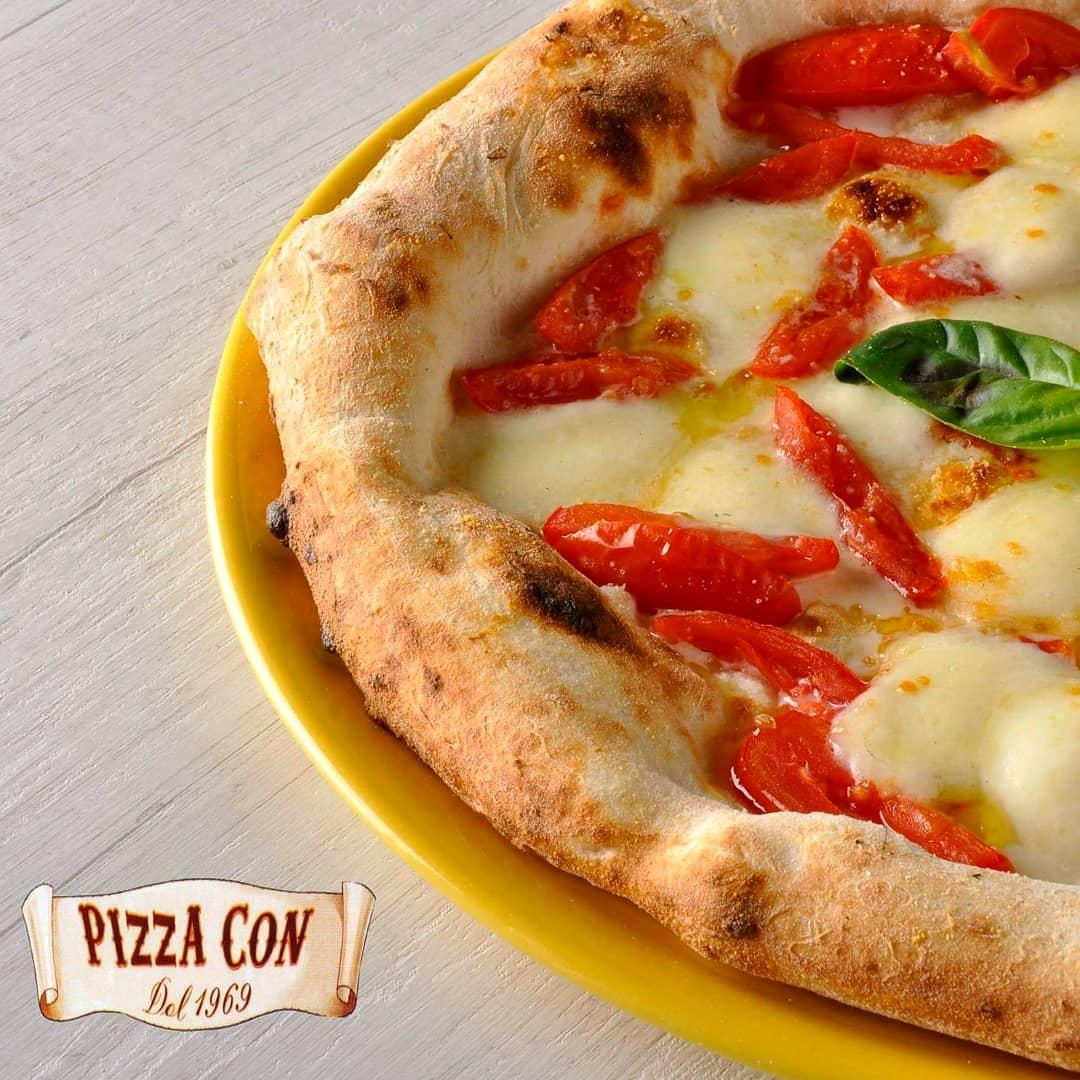Basil: (823, 313, 1080, 443)
Cheese: (851, 653, 1080, 842), (446, 403, 775, 513), (958, 113, 1080, 297), (938, 503, 1079, 620), (676, 200, 809, 317)
Pizza: (276, 3, 1080, 1080)
Tomatoes: (678, 603, 1007, 844), (543, 491, 847, 610), (773, 393, 949, 596), (716, 73, 997, 193), (758, 213, 891, 385), (736, 25, 957, 111), (438, 346, 707, 407), (525, 243, 671, 355), (963, 18, 1077, 87)
